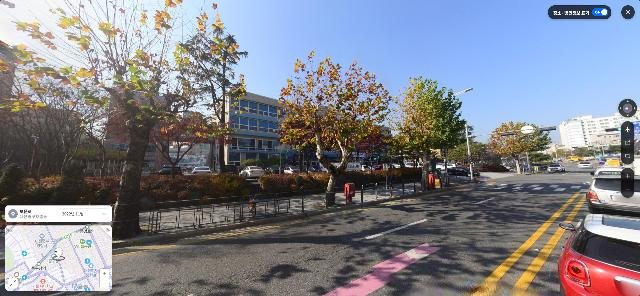other: (2, 0, 250, 240), (275, 52, 394, 208), (389, 75, 467, 191), (484, 120, 552, 175)
